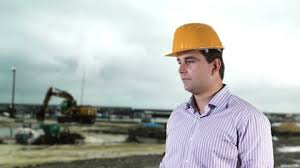Person_wearing_helmet: (157, 23, 229, 68)
